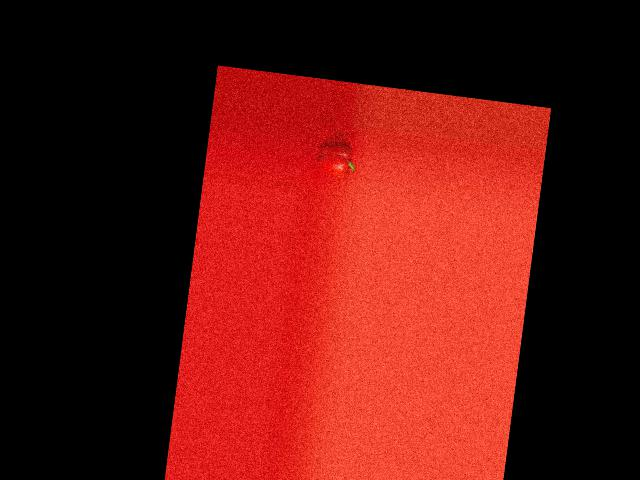bell_pepper: (313, 138, 359, 179)
